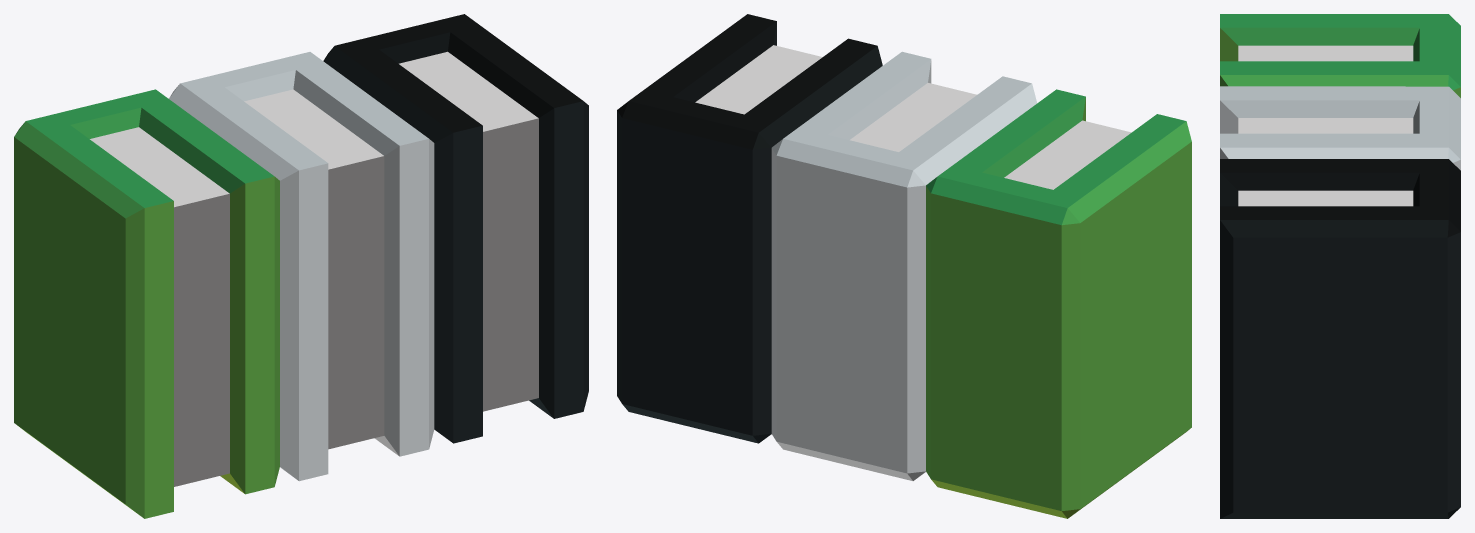
The model's file is kk_book_set.obj.
3 views of the same model, side by side, from view 1: azimuth 30°, elevation 25°; view 2: azimuth 150°, elevation 25°; view 3: azimuth 270°, elevation 25° (orthographic). The views are drawn at different scales.
Bounding box in the file's own units: 0.78 × 0.5 × 0.365.
